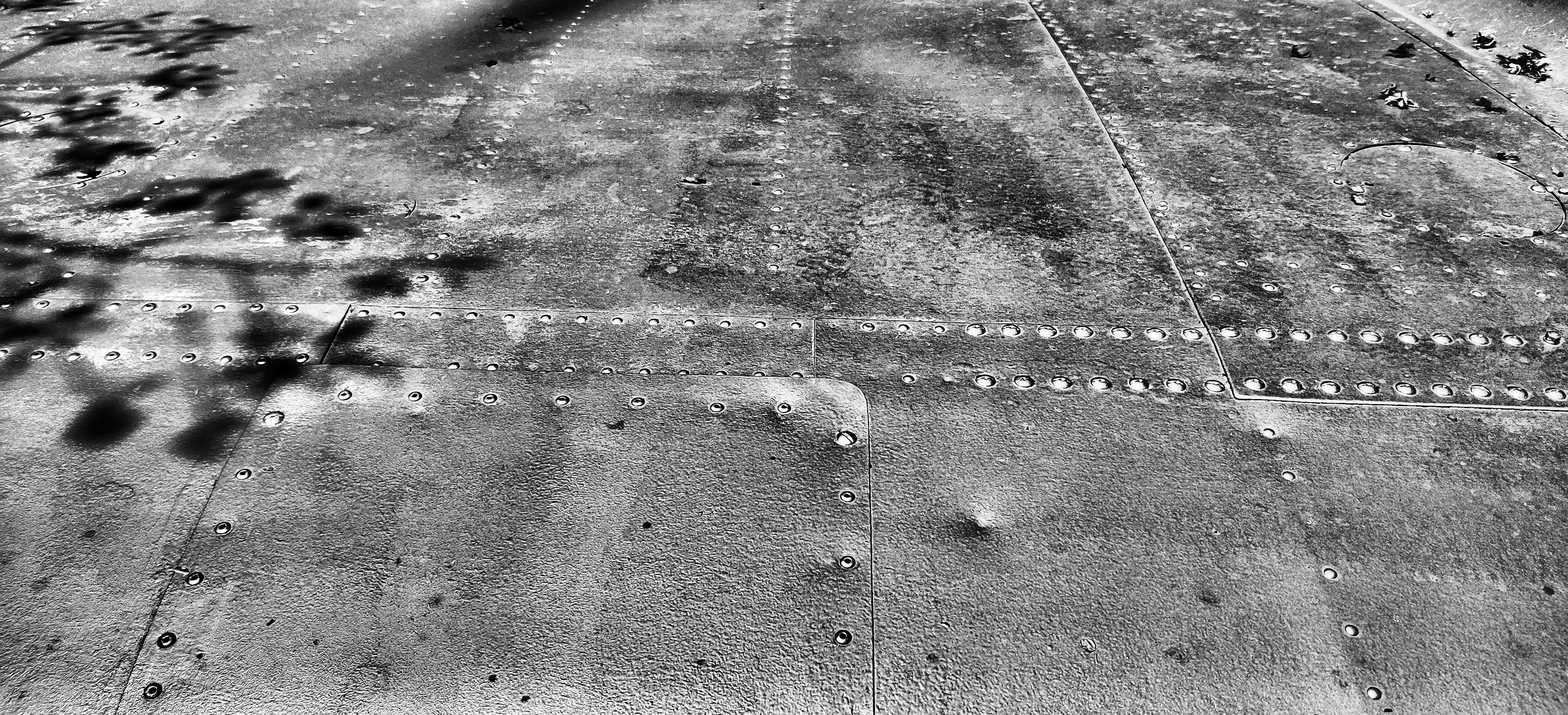dent: (973, 516, 996, 535)
missing-head: (1500, 240, 1509, 245), (1494, 233, 1501, 238)
